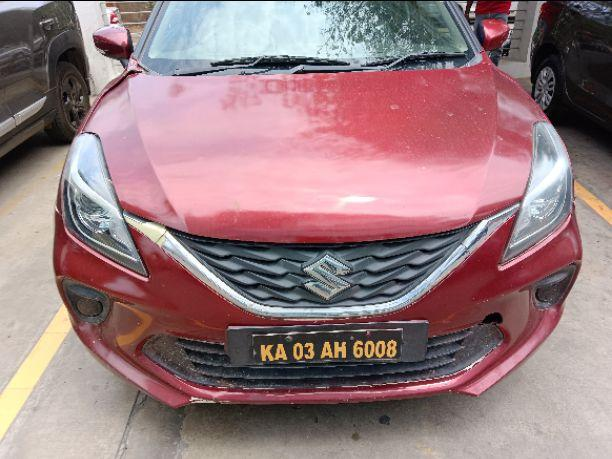license_plate: (52, 0, 583, 408), (224, 320, 428, 368)
